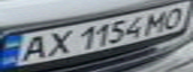1: (72, 24, 96, 51), (93, 20, 112, 48)
4: (121, 14, 151, 39)
5: (109, 17, 133, 44)
A: (9, 33, 54, 63)
M: (139, 8, 175, 35)
O: (157, 3, 193, 30)
X: (36, 28, 75, 58)
